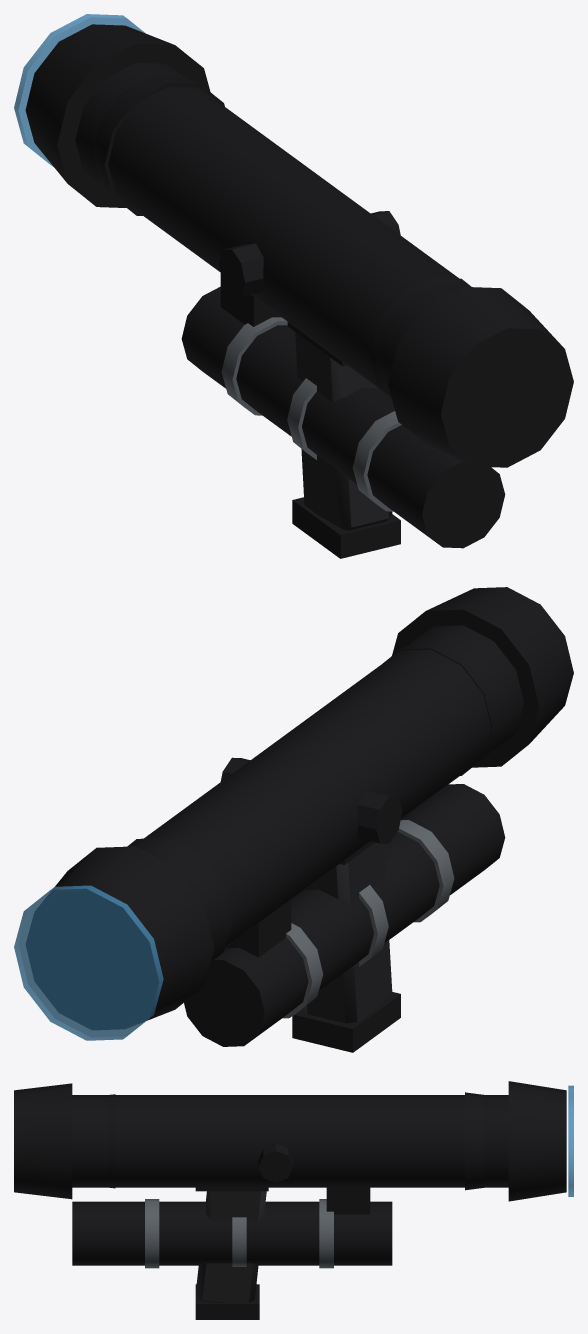
Rendered from attachments.glb.
3 renders of one model, top to bottom at view 1: azimuth 30°, elevation 25°; view 2: azimuth 150°, elevation 25°; view 3: azimuth 270°, elevation 25°, orthographic. The views are drawn at different scales.
Parts seen in each view (by area): view 1: ATT_scope_big, ATT_suppressor, ATT_extmag, ATT_scope; view 2: ATT_scope_big, ATT_suppressor, ATT_extmag, ATT_scope; view 3: ATT_scope_big, ATT_suppressor, ATT_extmag, ATT_scope, ATT_grip.
Part boxes in pixels (x1,y1,x2,y2): ATT_scope_big: (14,14,573,467); ATT_suppressor: (181,286,505,548); ATT_extmag: (292,332,400,558); ATT_scope: (93,75,471,397); ATT_scope_big: (14,587,573,1040); ATT_suppressor: (184,784,505,1046); ATT_extmag: (292,842,400,1052); ATT_scope: (127,645,496,961); ATT_scope_big: (14,1081,573,1201); ATT_suppressor: (72,1199,392,1268); ATT_extmag: (195,1191,266,1319); ATT_scope: (108,1092,484,1214); ATT_grip: (195,1187,268,1191).
Size of the model in its own units: 0.0832 by 0.1696 by 0.385.
